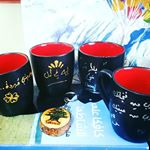cups: (94, 62, 150, 145), (28, 39, 77, 104), (76, 40, 128, 101), (1, 50, 34, 118)
